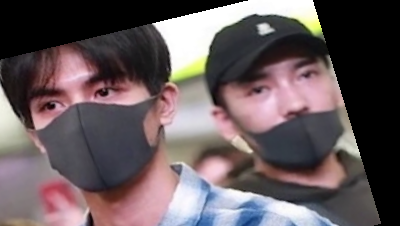mask_weared_incorrect: (199, 12, 353, 175)
